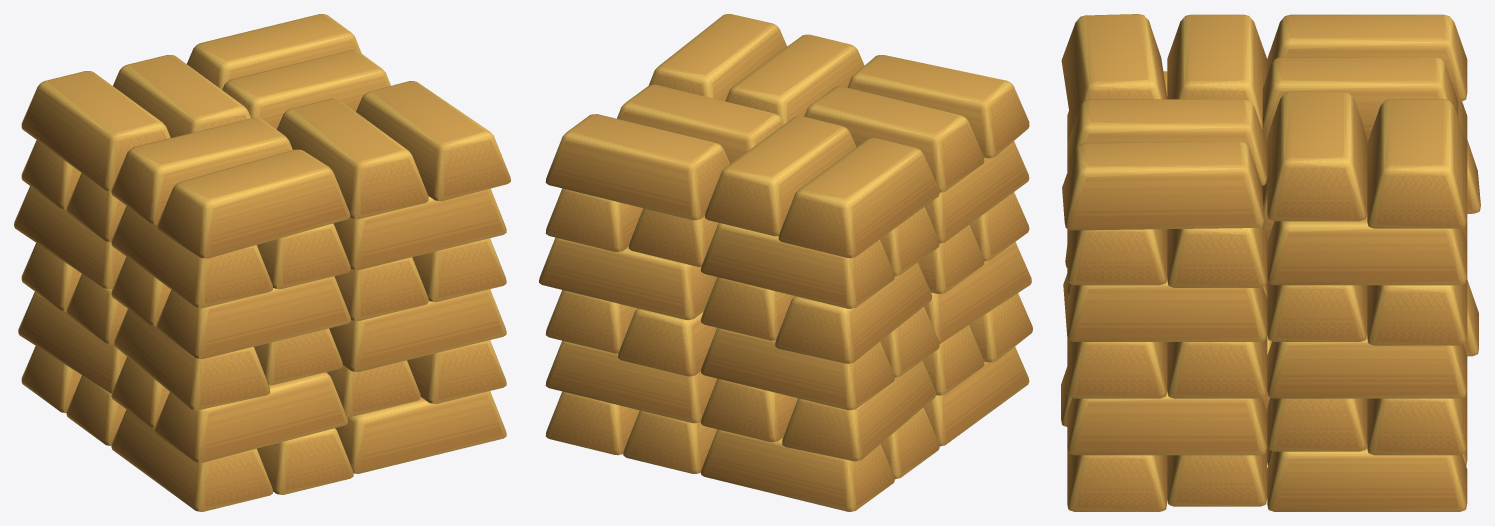
The model's file is gold-bars-stack-large.glb.
3 views of the same model, side by side, from view 1: azimuth 30°, elevation 25°; view 2: azimuth 150°, elevation 25°; view 3: azimuth 270°, elevation 25° (orthographic). The views are drawn at different scales.
Visible parts, largest first — view 1: Gold_Bars_Stack_Large; view 2: Gold_Bars_Stack_Large; view 3: Gold_Bars_Stack_Large.
Boxes of the visible parts, <box> form: Gold_Bars_Stack_Large: <box>14,14,510,511</box>; Gold_Bars_Stack_Large: <box>539,14,1032,511</box>; Gold_Bars_Stack_Large: <box>1061,14,1480,511</box>.
Size of the model in its own units: 1.66 by 1.5 by 1.68.
Materials: 1 (1 with a texture image).
